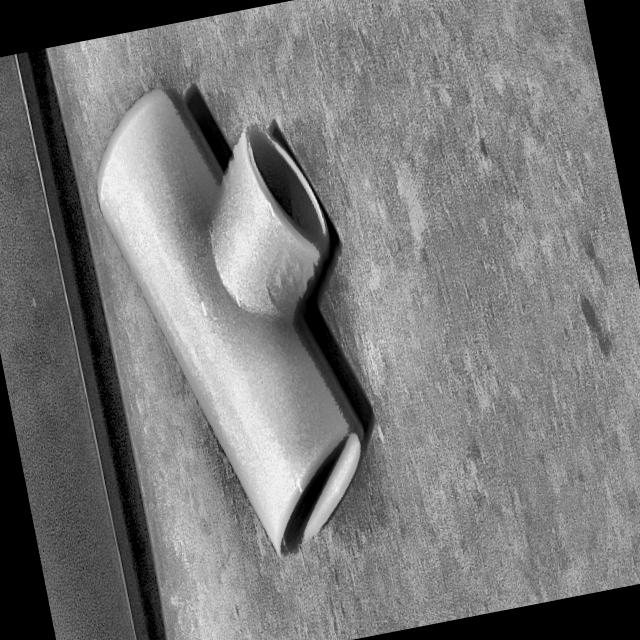EQUALTEE: (98, 88, 369, 554)
